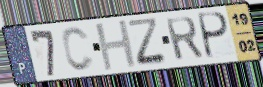7: (29, 29, 56, 78)
C: (60, 25, 96, 73)
H: (93, 18, 139, 73)
P: (197, 11, 231, 61)
R: (163, 15, 205, 62)
Z: (126, 16, 170, 68)
